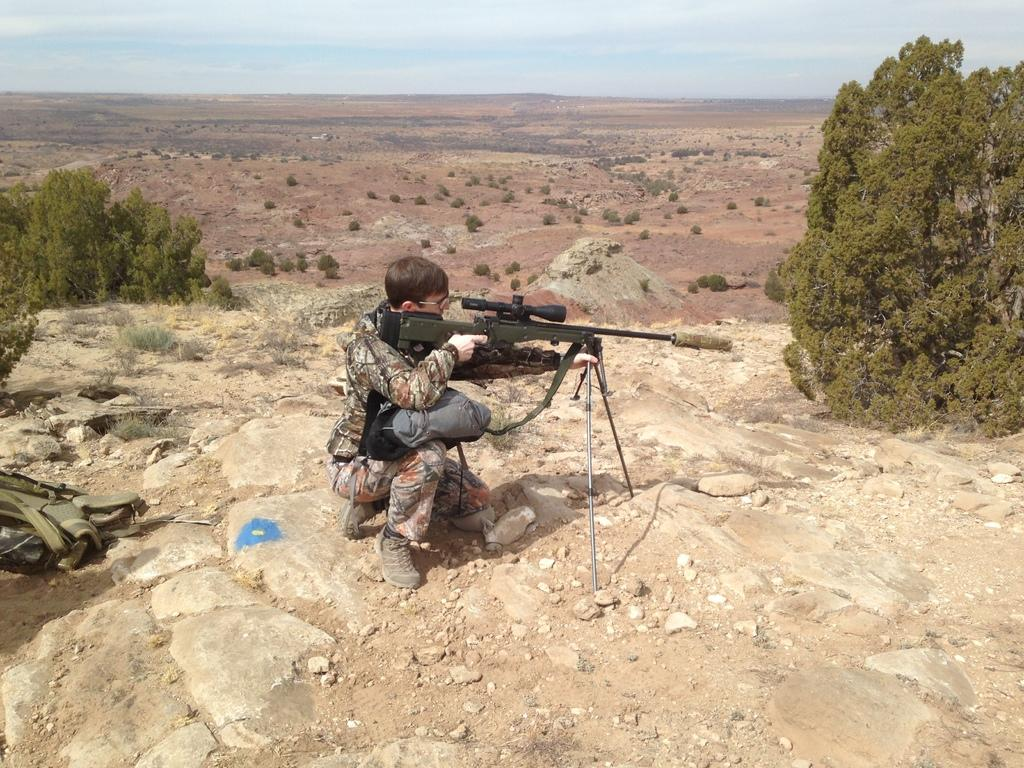Rifle: (378, 294, 732, 399)
